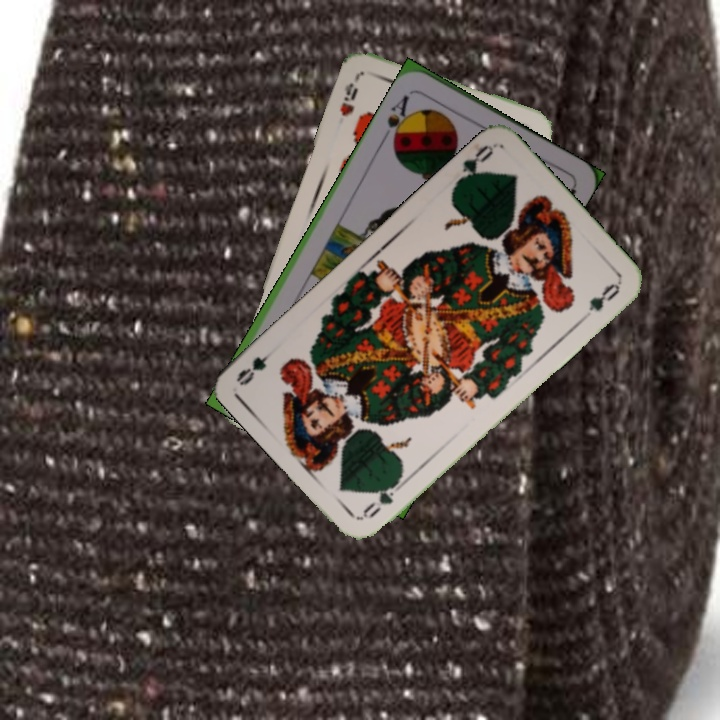GO: (358, 474, 408, 522), (450, 140, 496, 190)
H9: (336, 71, 362, 119)
SA: (379, 91, 416, 147)
